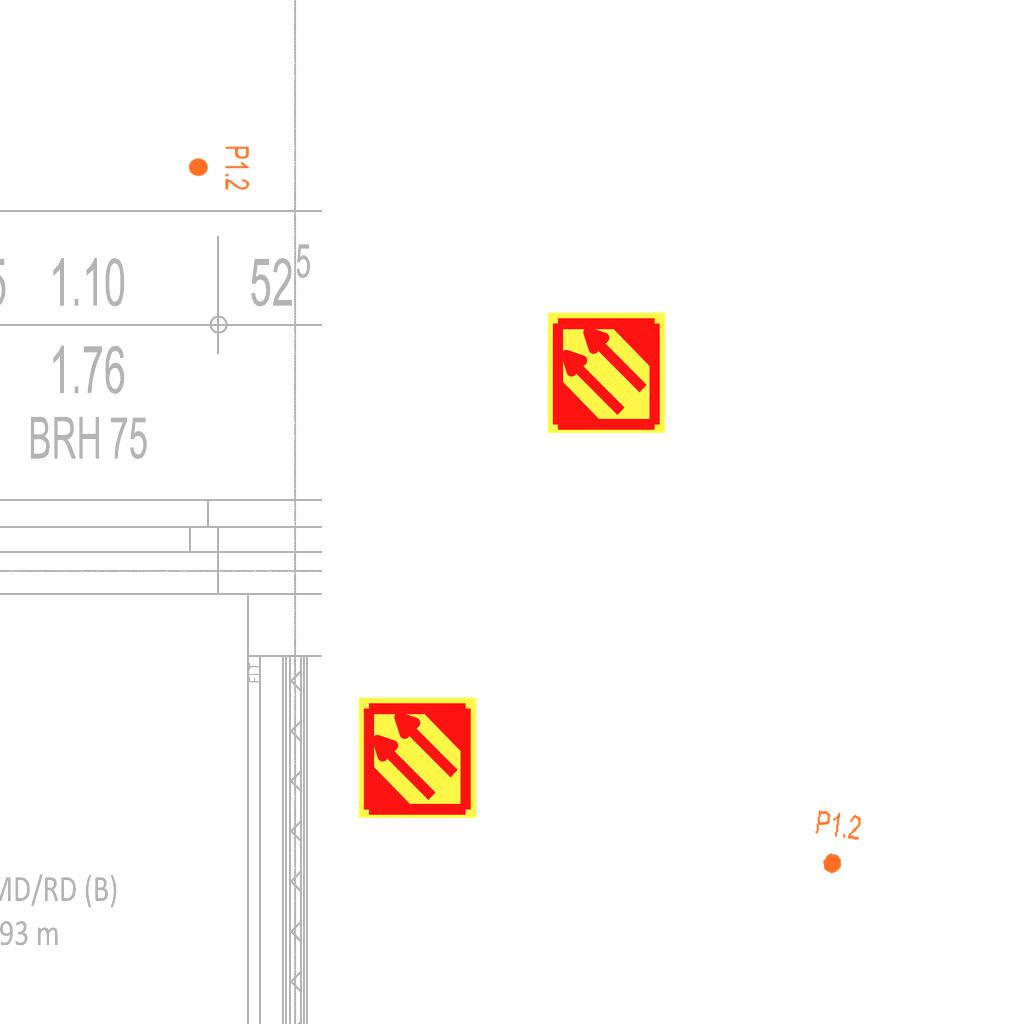ASR_Ansaugrauchmelder: (355, 695, 480, 820), (544, 310, 669, 435)
Downlight_LED_Einbauleuchten_Flur: (808, 808, 864, 878), (187, 145, 251, 191)
